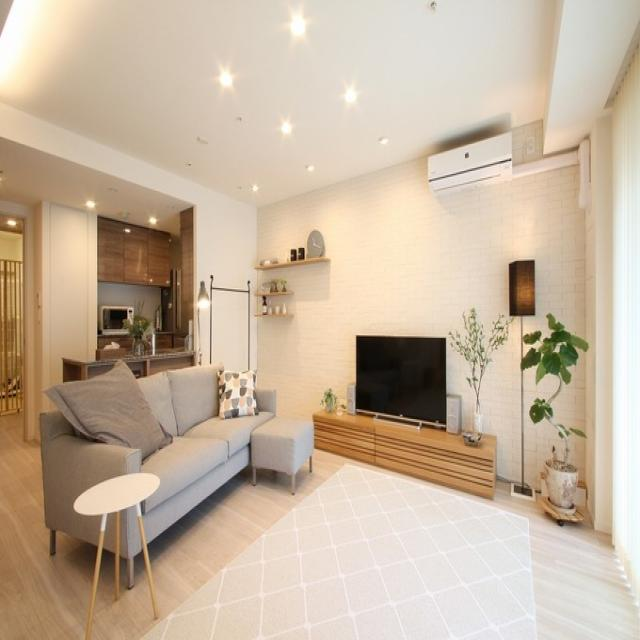natural desk: (75, 468, 166, 638)
natural shelf: (313, 406, 502, 502)
natural sofa: (37, 358, 313, 580)
